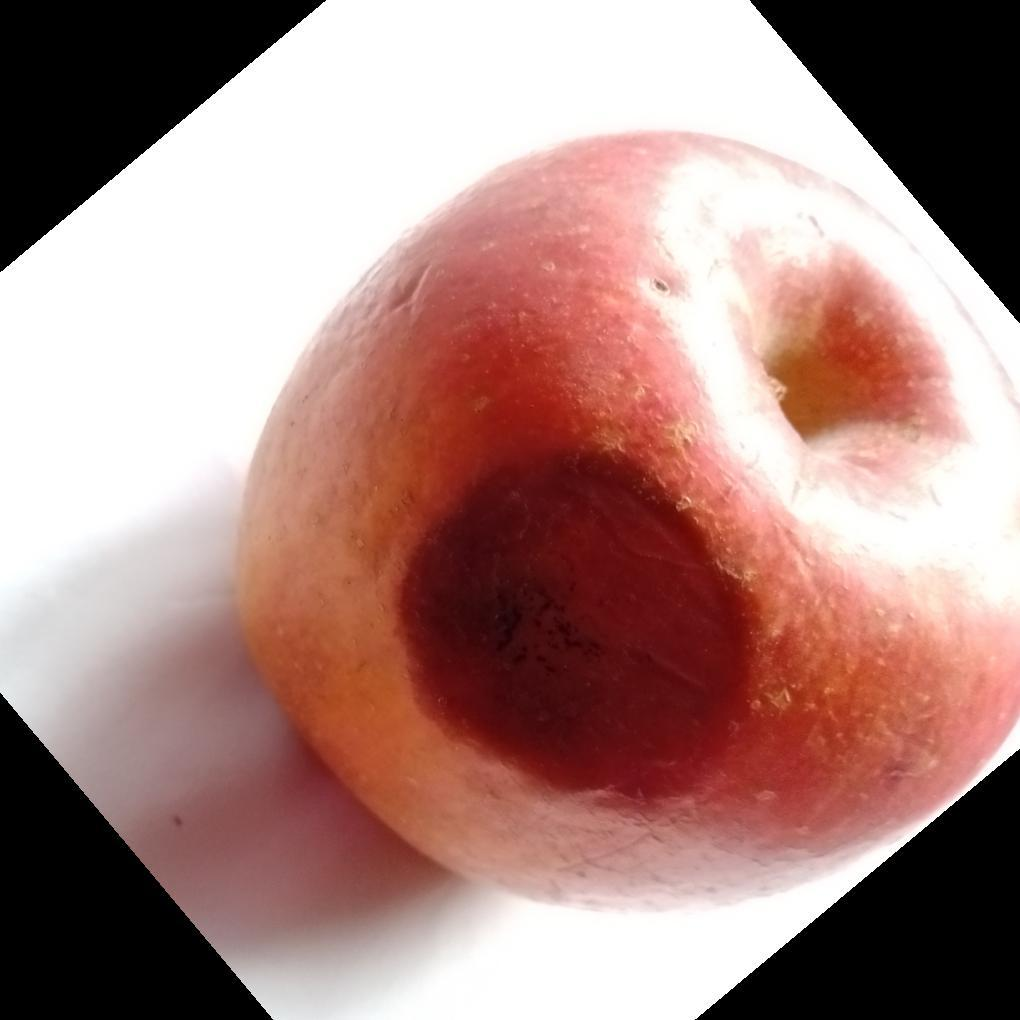FreshOrange: (228, 128, 1020, 920)
